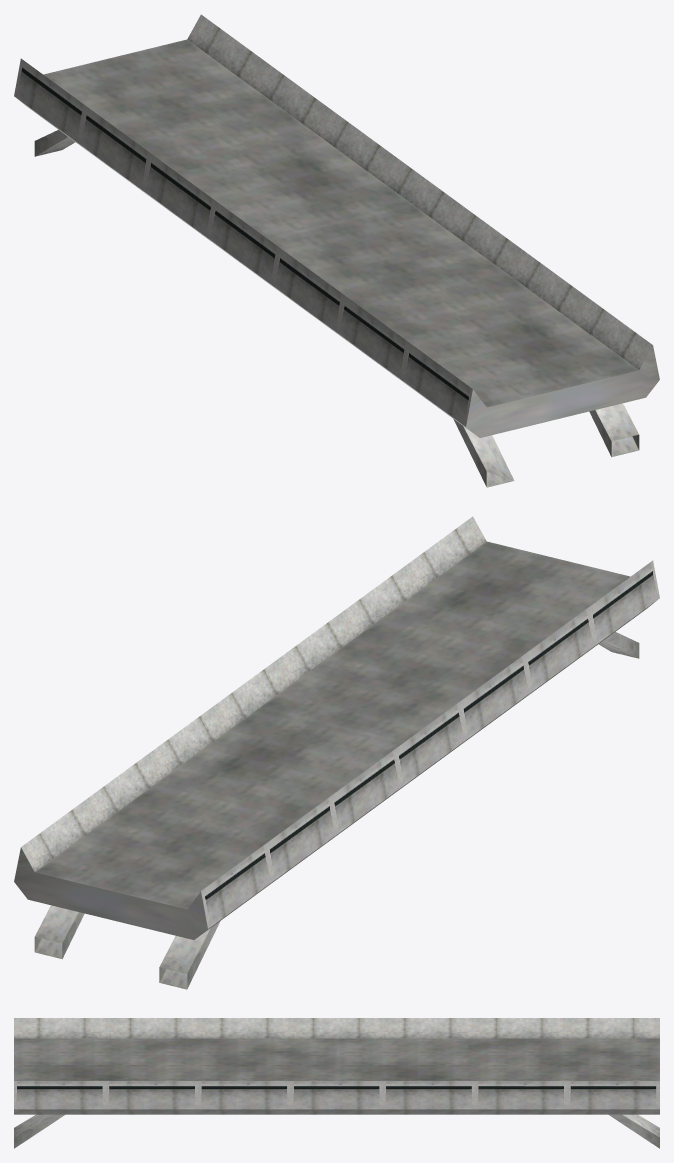
Rendered from thm_corl_imprv_bridge_lg_s01_l3.fbx.
3 renders of one model, top to bottom at view 1: azimuth 30°, elevation 25°; view 2: azimuth 150°, elevation 25°; view 3: azimuth 270°, elevation 25°, orthographic. The views are drawn at different scales.
Parts seen in each view (by area): view 1: mesh_node; view 2: mesh_node; view 3: mesh_node.
Part boxes in pixels (<box>): mesh_node: <box>14,14,659,487</box>; mesh_node: <box>14,516,659,989</box>; mesh_node: <box>14,1018,659,1148</box>.
Bounding box in the file's own units: 7 × 3.51 × 28.25.
Materials: 1 (1 with a texture image).
